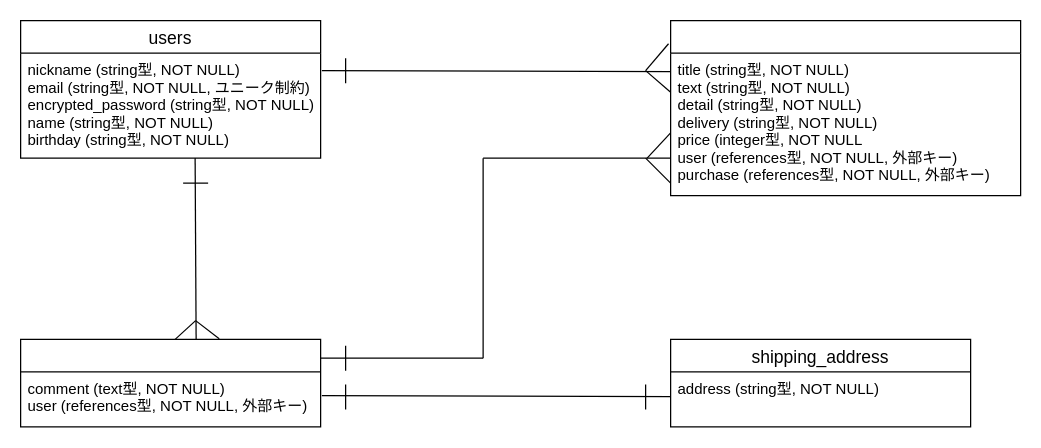
The diagram is 1041 pixels wide and 448 high, and some of its shapes have lost their labels. Each missing label, with the box of its shape:
contents: (669, 19, 1021, 196)
purchases: (19, 338, 321, 427)
